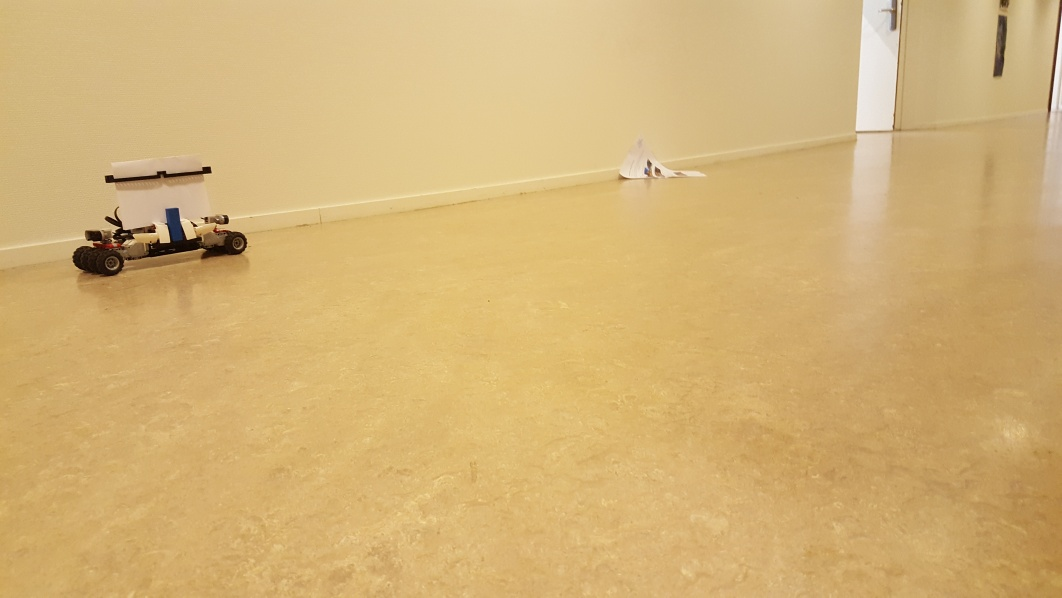car: (72, 157, 250, 275)
